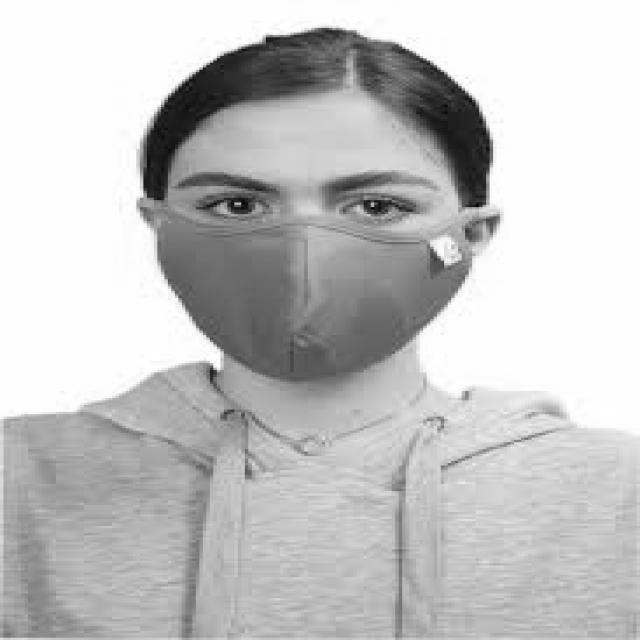fake: (120, 157, 528, 425)
real: (165, 102, 465, 410)
